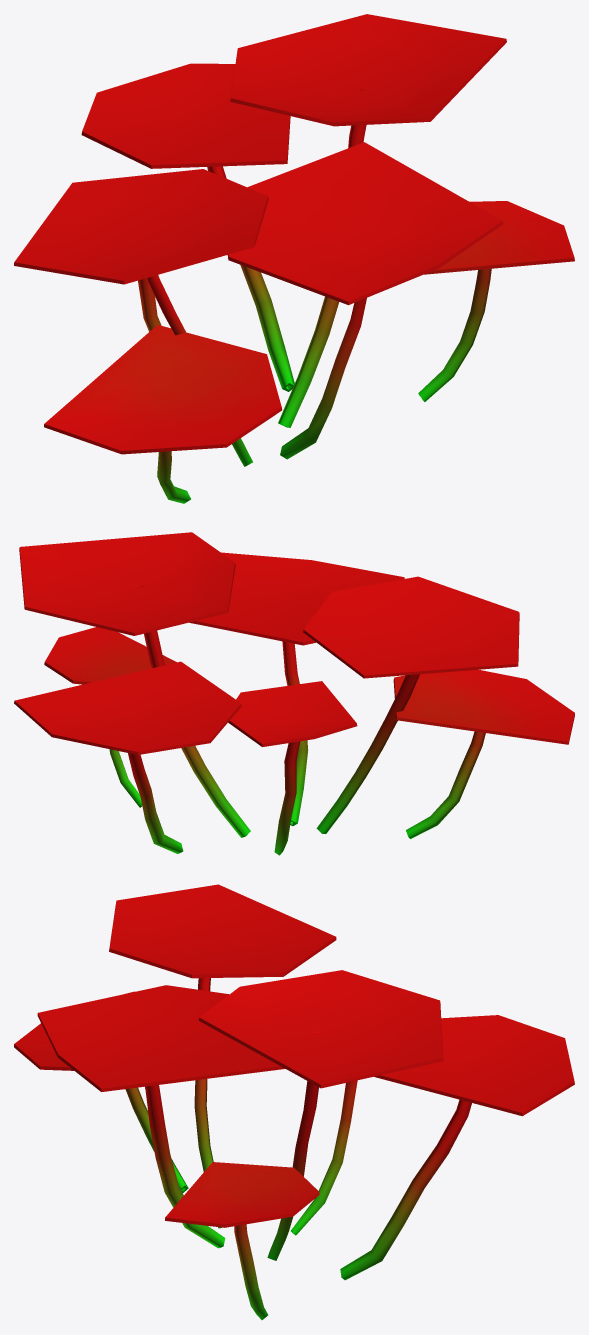
Rendered from Grass_01_uni.fbx.
3 views of the same model, one above another, from view 1: azimuth 30°, elevation 25°; view 2: azimuth 150°, elevation 25°; view 3: azimuth 270°, elevation 25° (orthographic). The views are drawn at different scales.
Parts seen in each view (by area): view 1: _ox63_Var11_LOD0; view 2: _ox63_Var11_LOD0; view 3: _ox63_Var11_LOD0.
Boxes of the visible parts, x1,y1,x2,y2 form: _ox63_Var11_LOD0: (14, 14, 574, 503); _ox63_Var11_LOD0: (14, 532, 574, 855); _ox63_Var11_LOD0: (14, 884, 574, 1319).
Size of the model in its own units: 10.24 by 5.44 by 9.52.
